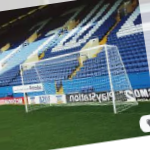goals: (19, 43, 137, 115)
